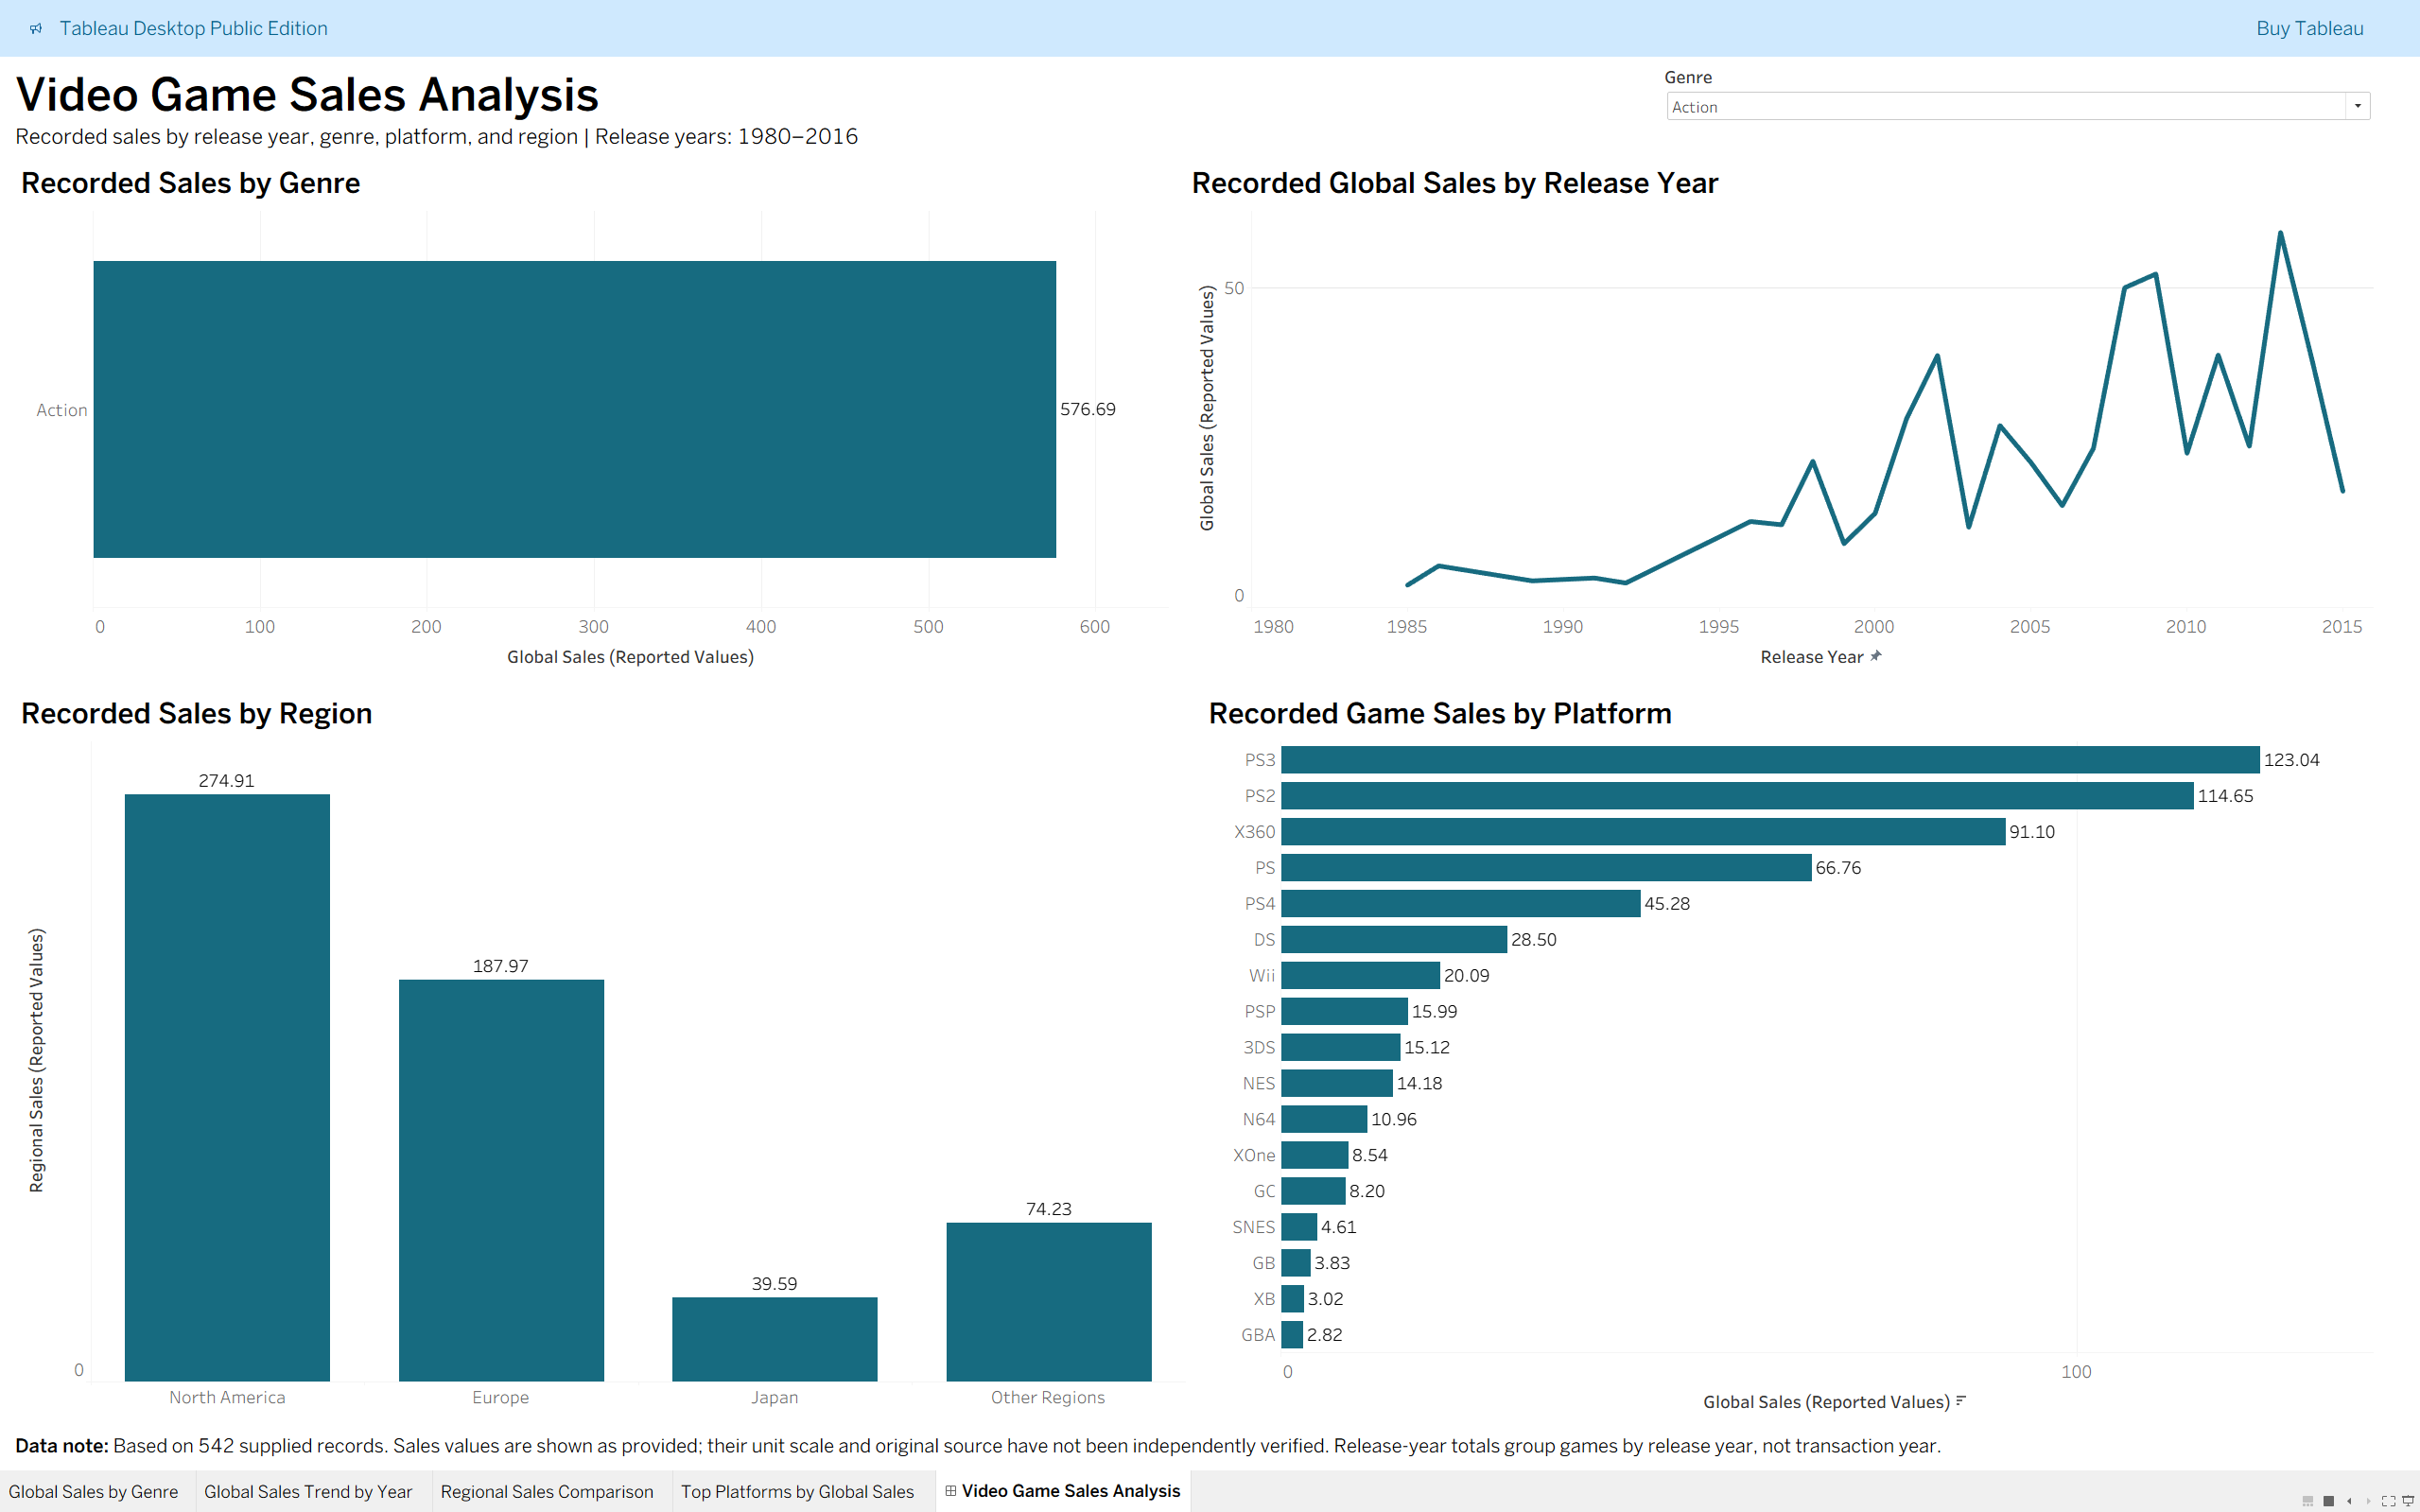

Layout of this report page (visuals, bound fields, positions):
{"tool":"tableau","page":{"name":"Video Game Sales Analysis","canvas":[1000,1000],"units":"permille","ordinal":0},"visuals":[{"type":"filter","title":"Global Sales by Genre","param":"[federated.1fpd7hc0bz33wq12lzuxu0gm1sxn].[none:Genre:nk]","box":[687.5,5.2,293,69.5]},{"type":"title","box":[3.6,6,978.3,70.3]},{"type":"worksheet","title":"Global Sales by Genre","mark":"Automatic","rows":["Genre"],"cols":["Global_Sales"],"box":[3.6,76.2,481.9,419.3]},{"type":"worksheet","title":"Global Sales Trend by Year","mark":"Automatic","rows":["Global_Sales"],"cols":["Year"],"box":[485.6,76.2,496.2,419.3]},{"type":"worksheet","title":"Regional Sales Comparison","mark":"Bar","box":[3.6,495.5,489.1,474.6]},{"type":"worksheet","title":"Top Platforms by Global Sales","mark":"Automatic","rows":["Platform"],"cols":["Global_Sales"],"box":[492.8,495.5,489.1,474.6]},{"type":"text","box":[3.6,970,978.3,24]}]}

Visuals, with their boxes on the dashboard's canvas, which has no fixed pixel size, in thousandths of its width and height (x1, y1, x2, y2). These are canvas units, not pixel positions in the 2420x1512 screenshot, which may show the page scaled, cropped or inside an application window:
"Global Sales by Genre" filter: (x1=688, y1=5, x2=980, y2=75)
title: (x1=4, y1=6, x2=982, y2=76)
"Global Sales by Genre" worksheet: (x1=4, y1=76, x2=486, y2=496)
"Global Sales Trend by Year" worksheet: (x1=486, y1=76, x2=982, y2=496)
"Regional Sales Comparison" worksheet (Bar marks): (x1=4, y1=496, x2=493, y2=970)
"Top Platforms by Global Sales" worksheet: (x1=493, y1=496, x2=982, y2=970)
text: (x1=4, y1=970, x2=982, y2=994)
